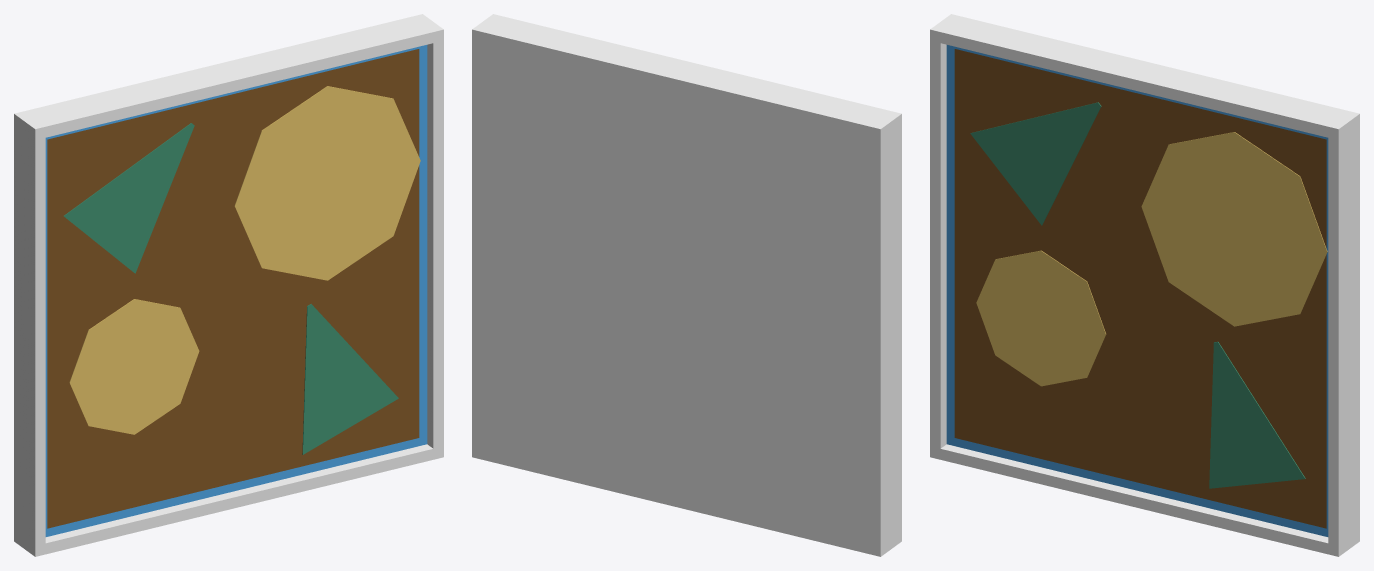
Rendered from Picture Frame_23.fbx.
The picture shows the model from 3 angles, left to right: view 1: azimuth 30°, elevation 25°; view 2: azimuth 150°, elevation 25°; view 3: azimuth 330°, elevation 25°; orthographic projection.
Parts seen in each view (by area): view 1: Picture Frame_23; view 2: Picture Frame_23; view 3: Picture Frame_23.
Part boxes in pixels (box(x1,y1,x2,y2)): Picture Frame_23: box(14, 14, 443, 556); Picture Frame_23: box(472, 14, 901, 556); Picture Frame_23: box(930, 14, 1359, 556).
Size of the model in its own units: 0.4279 by 0.4279 by 0.0385.
